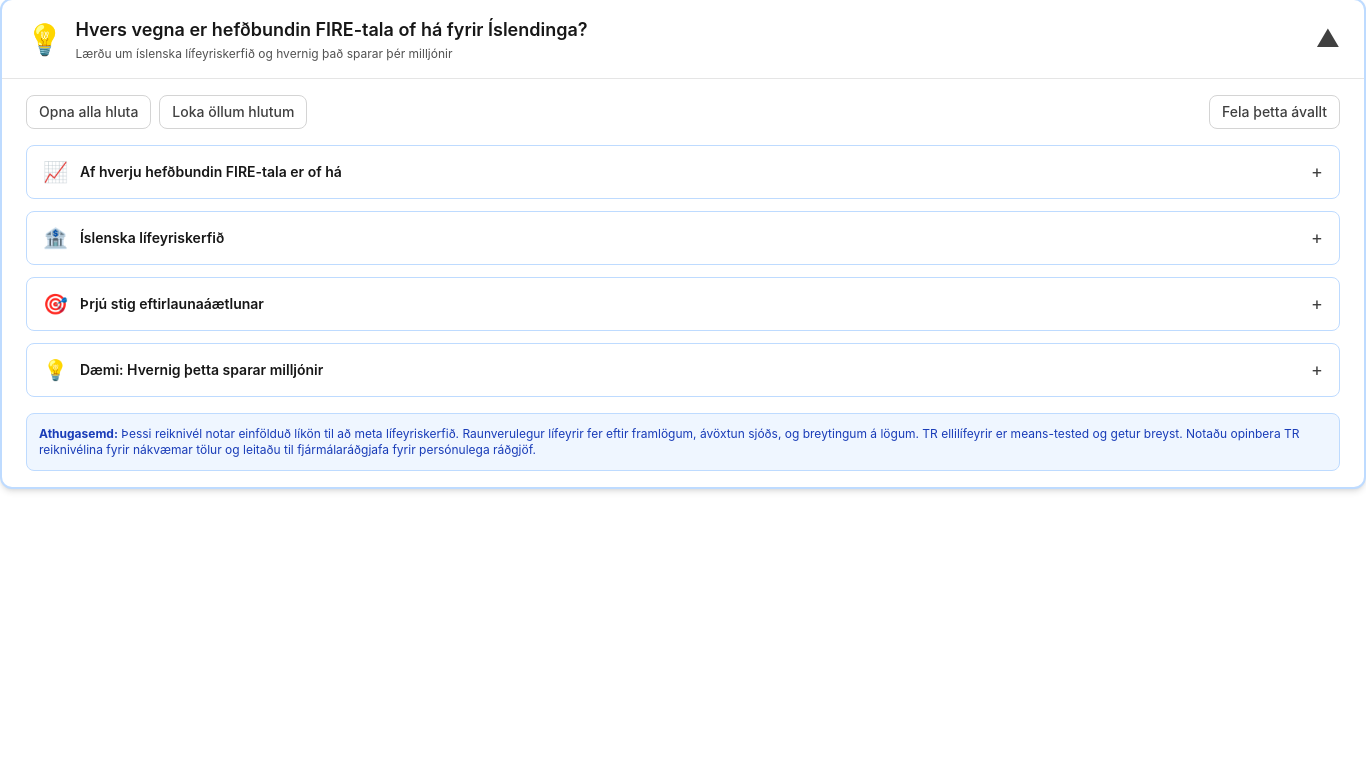
Scenario: PensionEducationalIntro › Section Expansion › expands all sections when "Opna alla hluta" is clicked
Click the button "Opna alla hluta". click: x=89, y=112
box: [26,95,151,129]
(page scrolled)
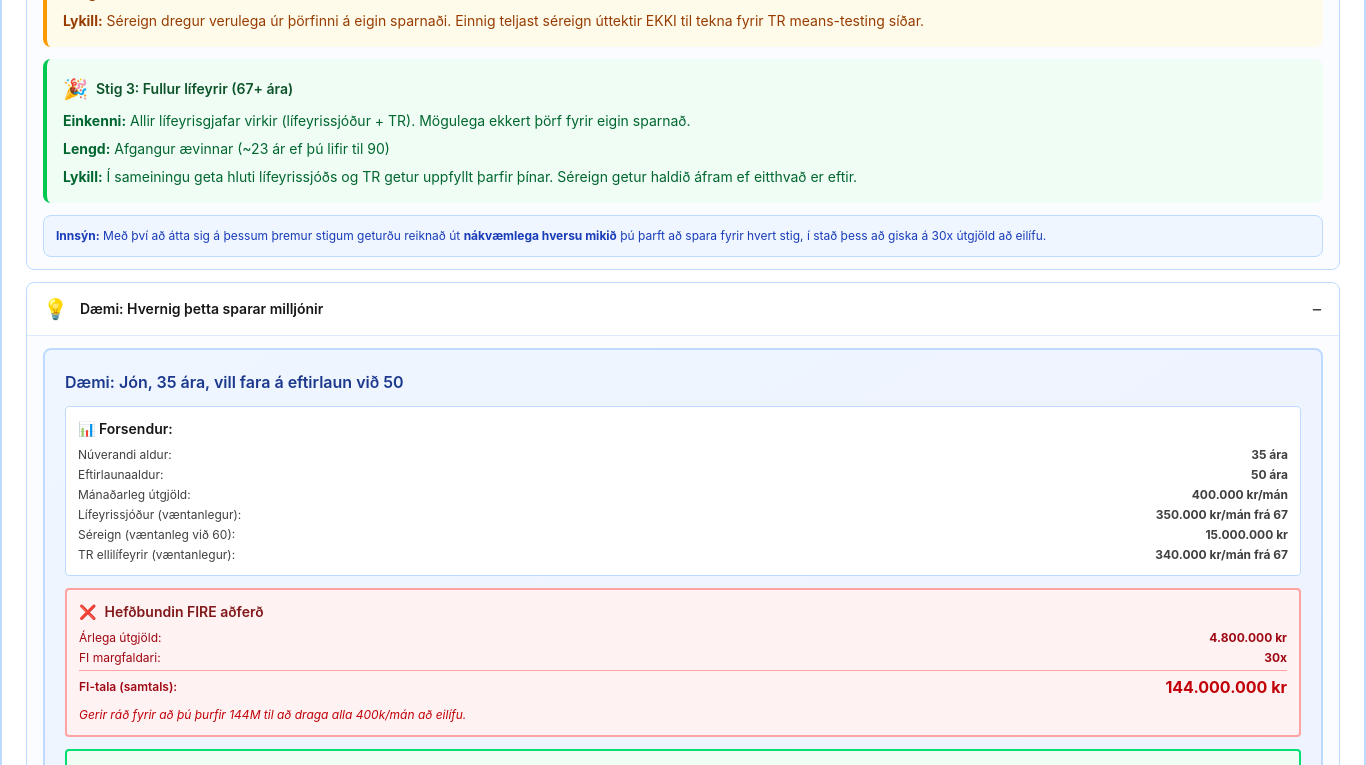
Expected: the text "Dæmi: Jón, 35 ára, vill fara á eftirlaun við 50" is shown, [65,372,404,392]
